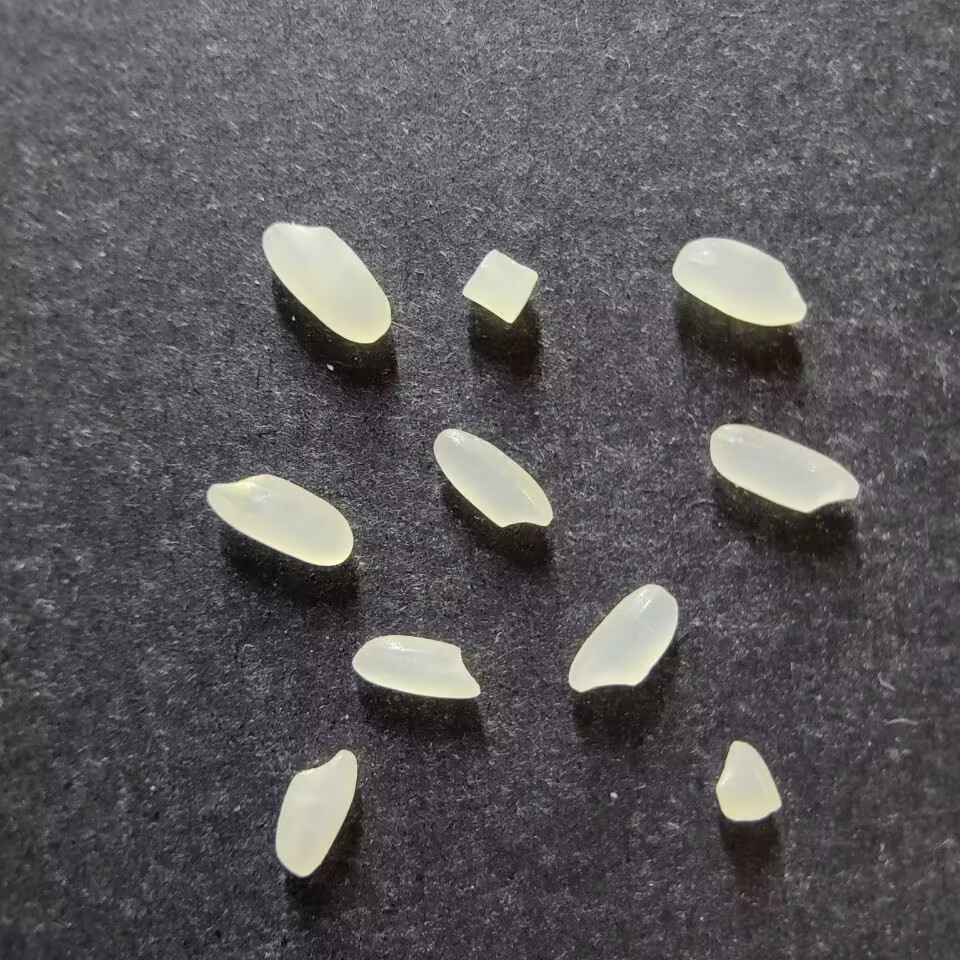broken: (461, 249, 538, 324), (715, 740, 781, 822)
rice: (261, 222, 391, 344), (206, 473, 353, 566), (709, 423, 859, 513), (432, 427, 553, 528), (567, 583, 678, 693), (671, 236, 806, 326), (274, 749, 356, 877), (351, 634, 480, 699)
